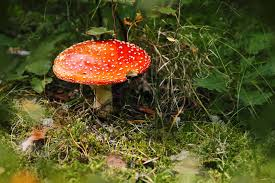Amanita muscaria: (44, 30, 154, 115)
